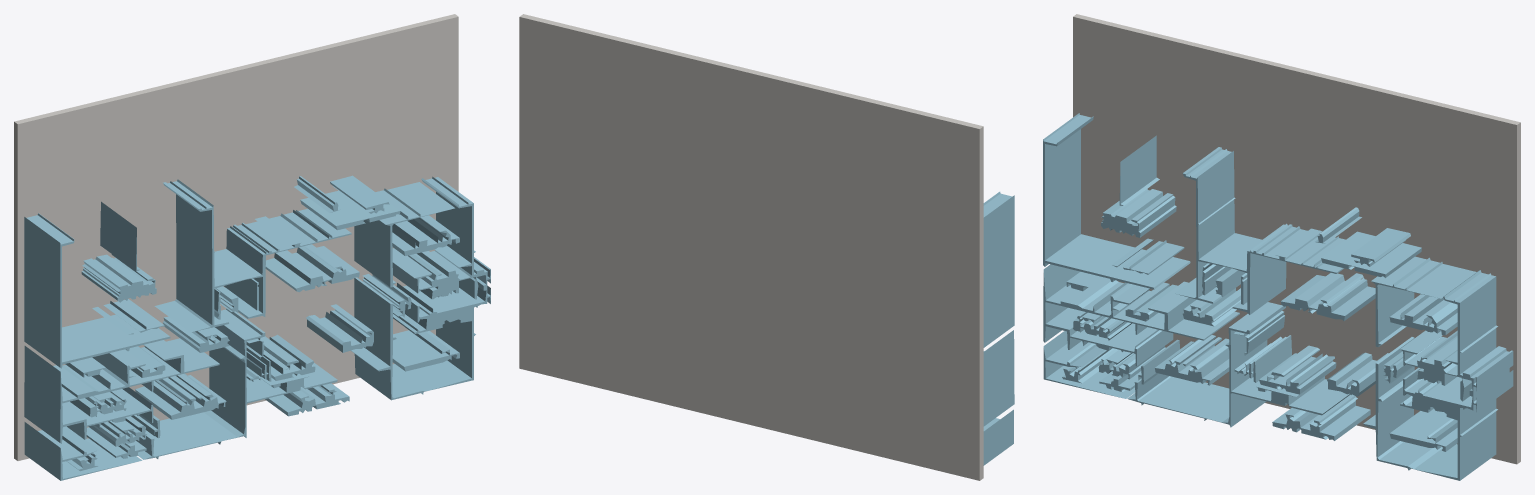
3 renders of one model, left to right at view 1: azimuth 30°, elevation 25°; view 2: azimuth 150°, elevation 25°; view 3: azimuth 330°, elevation 25°, orthographic. The views are drawn at different scales.
Parts seen in each view (by area): view 1: world; view 2: world; view 3: world.
Part boxes in pixels (bbox=[...]): world: bbox=[14, 14, 490, 480]; world: bbox=[519, 14, 1014, 480]; world: bbox=[1043, 14, 1520, 480].
Bounding box in the file's own units: 10.23 × 7.47 × 1.6.
